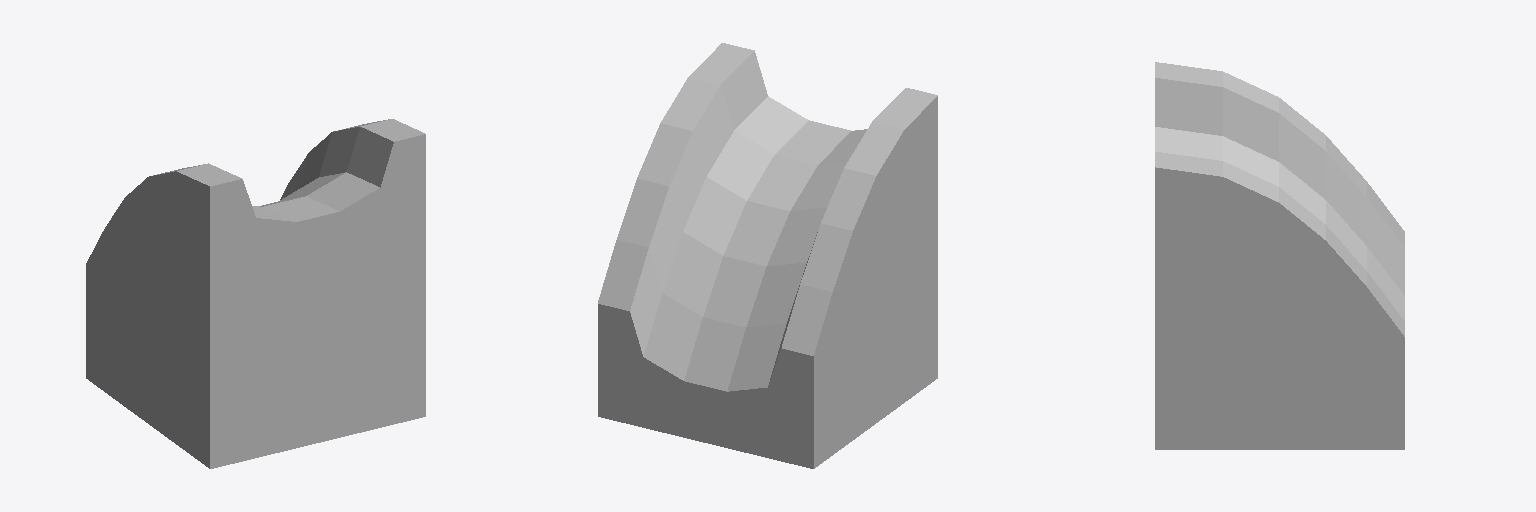
Rendered from ramp-end-solid-d.obj.
The picture shows the model from 3 angles: view 1: azimuth 30°, elevation 25°; view 2: azimuth 150°, elevation 25°; view 3: azimuth 270°, elevation 25°; orthographic projection.
Parts seen in each view (by area): view 1: ramp-end-solid-d; view 2: ramp-end-solid-d; view 3: ramp-end-solid-d.
Part boxes in pixels (x1,y1,x2,y2): ramp-end-solid-d: (86, 119, 425, 468); ramp-end-solid-d: (598, 43, 937, 468); ramp-end-solid-d: (1155, 62, 1404, 449).
Bounding box in the file's own units: 1 × 1.25 × 1.